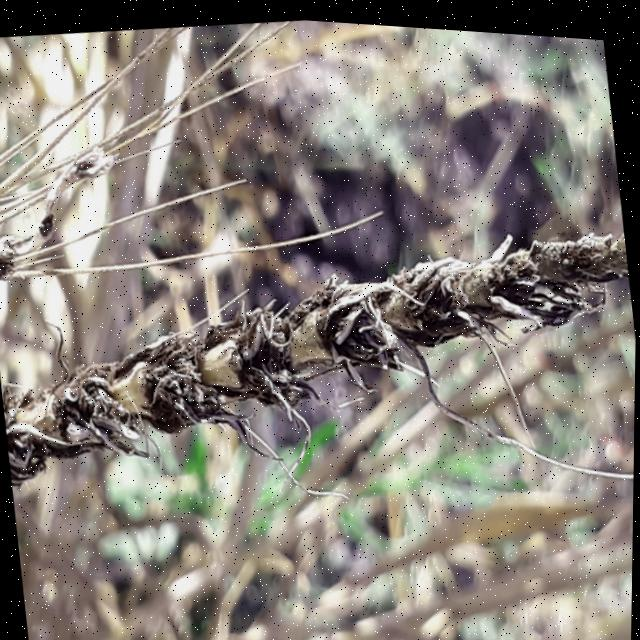loose_charred: (0, 150, 638, 550), (0, 98, 147, 325)
